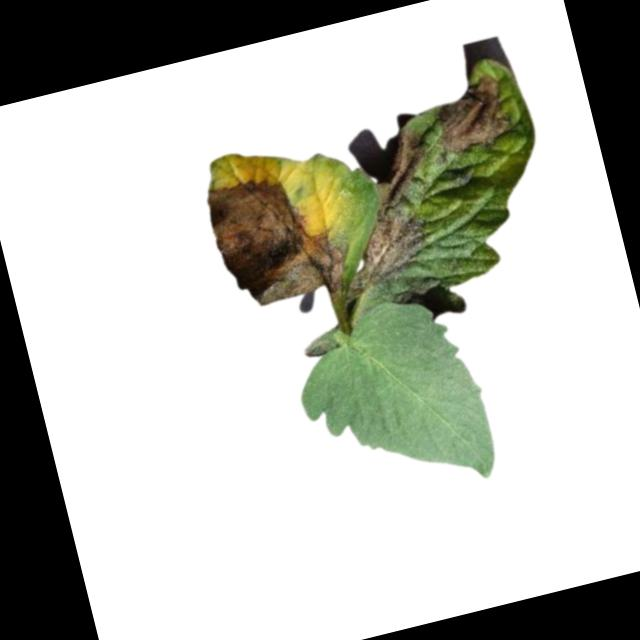Late_blight: (201, 157, 361, 324), (308, 123, 456, 298), (423, 70, 517, 160)
